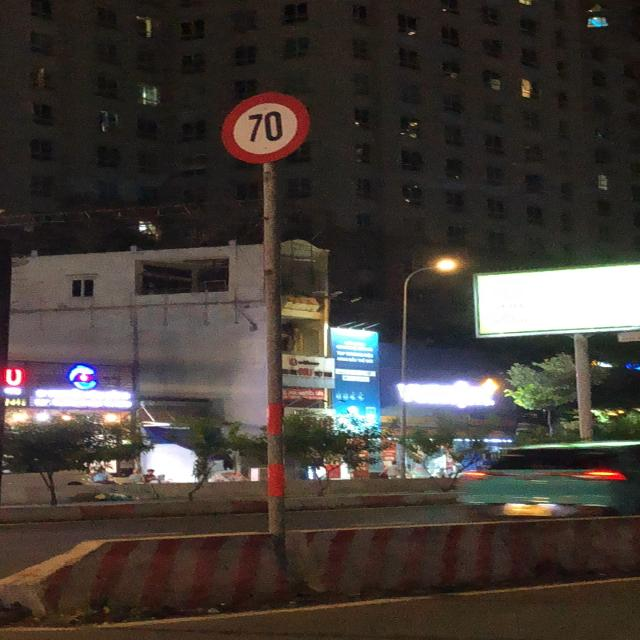Bien bao toc do toi da cho phep: (213, 85, 319, 165)
